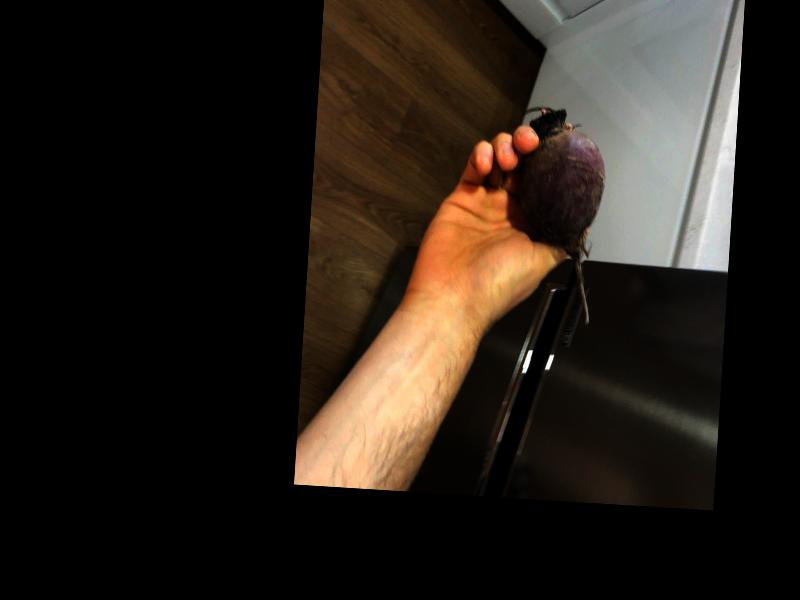Beet: (511, 104, 608, 323)
